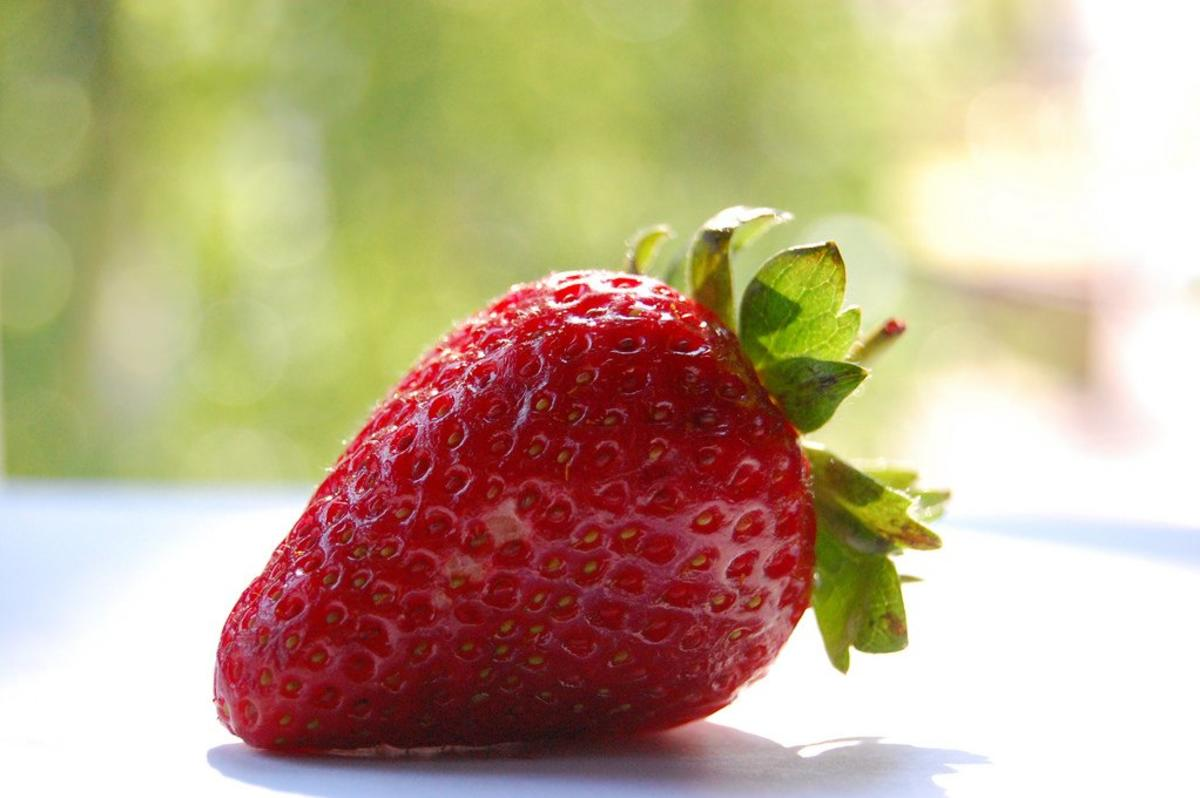ripe: (201, 264, 838, 765)
